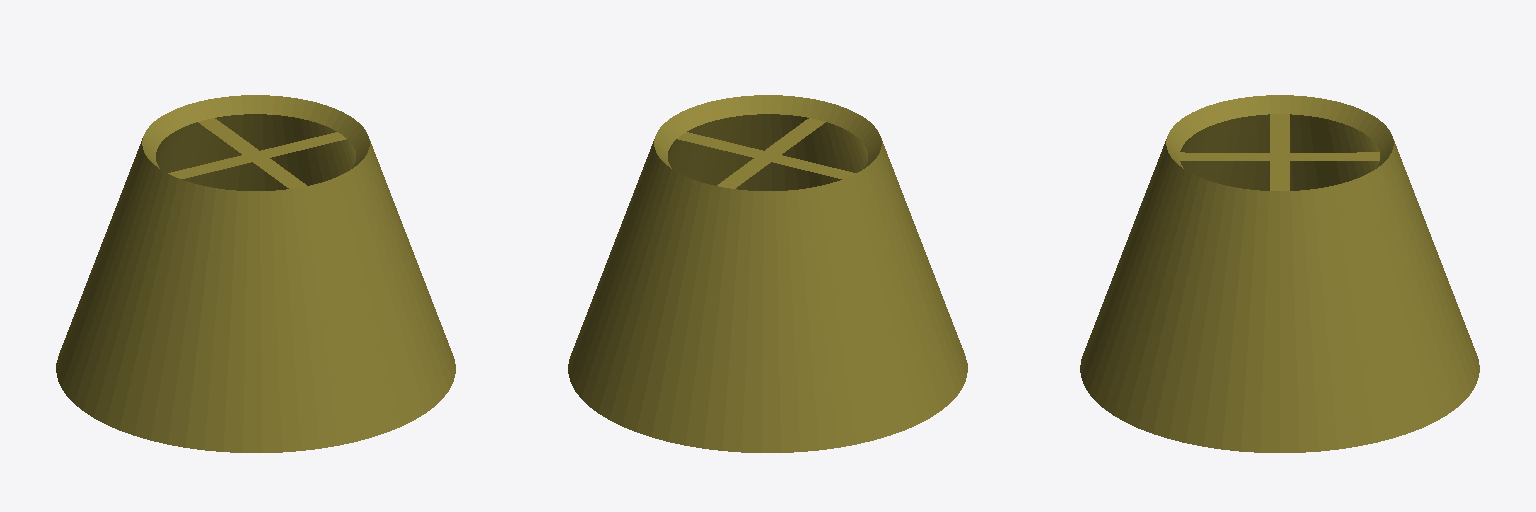
File: lampShade.obj
The picture shows the model from 3 angles: view 1: azimuth 30°, elevation 25°; view 2: azimuth 150°, elevation 25°; view 3: azimuth 270°, elevation 25°; orthographic projection.
Parts seen in each view (by area): view 1: Cylinder; view 2: Cylinder; view 3: Cylinder.
Part boxes in pixels (bbox=[...]): Cylinder: bbox=[56, 95, 455, 452]; Cylinder: bbox=[568, 95, 967, 452]; Cylinder: bbox=[1080, 95, 1479, 452].
Size of the model in its own units: 2.94 by 1.83 by 2.94.